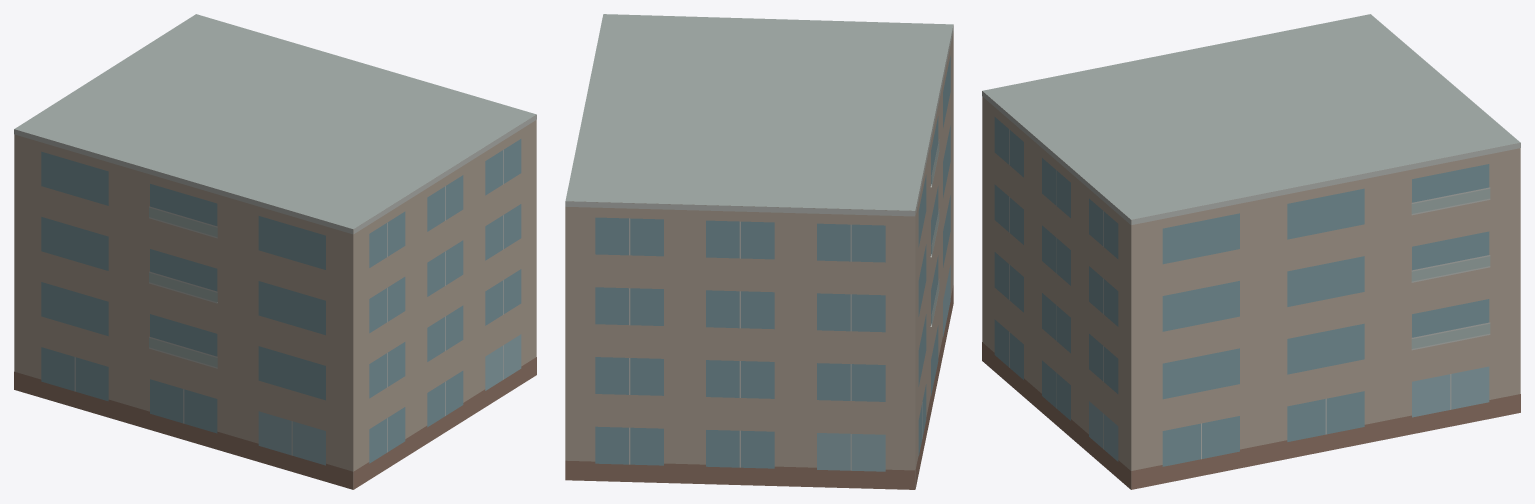
The model's file is survey-upis-33032922.glb.
3 views of the same model, side by side, from view 1: azimuth 30°, elevation 25°; view 2: azimuth 150°, elevation 25°; view 3: azimuth 270°, elevation 25° (orthographic). The views are drawn at different scales.
Parts seen in each view (by area): view 1: survey-upis-33032922.tmp; view 2: survey-upis-33032922.tmp; view 3: survey-upis-33032922.tmp.
Part boxes in pixels (bbox=[...]): survey-upis-33032922.tmp: bbox=[14, 14, 536, 489]; survey-upis-33032922.tmp: bbox=[565, 14, 953, 489]; survey-upis-33032922.tmp: bbox=[982, 14, 1520, 489].
Size of the model in its own units: 19.95 by 12.2 by 22.06.
